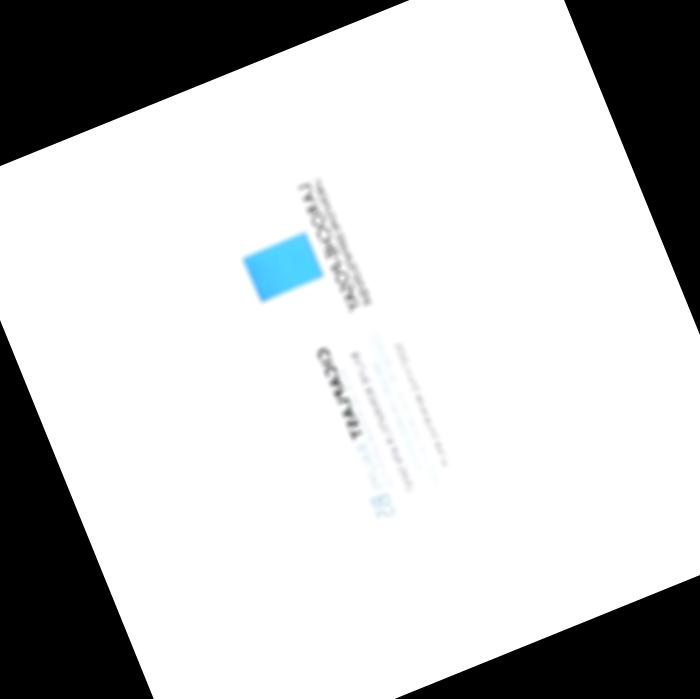cosmetic: (151, 79, 573, 668)
